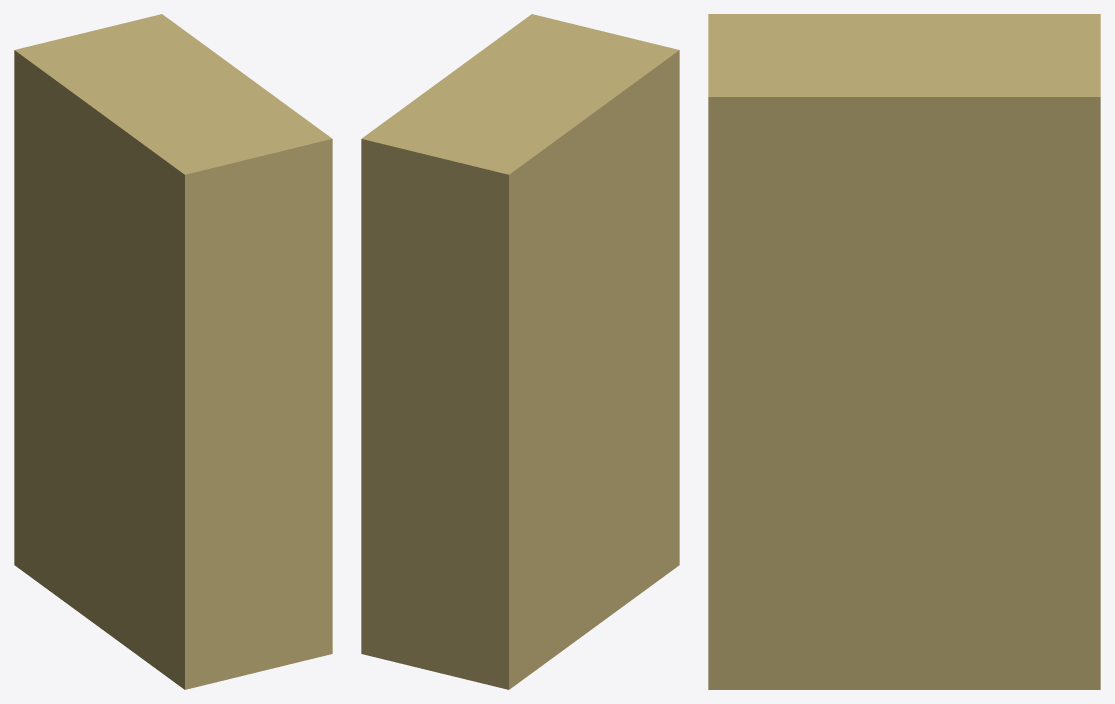
3 renders of one model, left to right at view 1: azimuth 30°, elevation 25°; view 2: azimuth 150°, elevation 25°; view 3: azimuth 270°, elevation 25°, orthographic. The views are drawn at different scales.
Parts seen in each view (by area): view 1: GAP-31-HIGH-2; view 2: GAP-31-HIGH-2; view 3: GAP-31-HIGH-2.
Part boxes in pixels (x1,y1,x2,y2): GAP-31-HIGH-2: [14, 14, 332, 689]; GAP-31-HIGH-2: [361, 14, 679, 689]; GAP-31-HIGH-2: [708, 14, 1100, 689].
Bounding box in the file's own units: 0.045 × 0.15 × 0.09.
